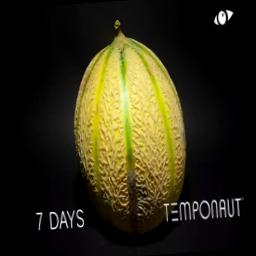Melon Ripe: (61, 14, 194, 232)
